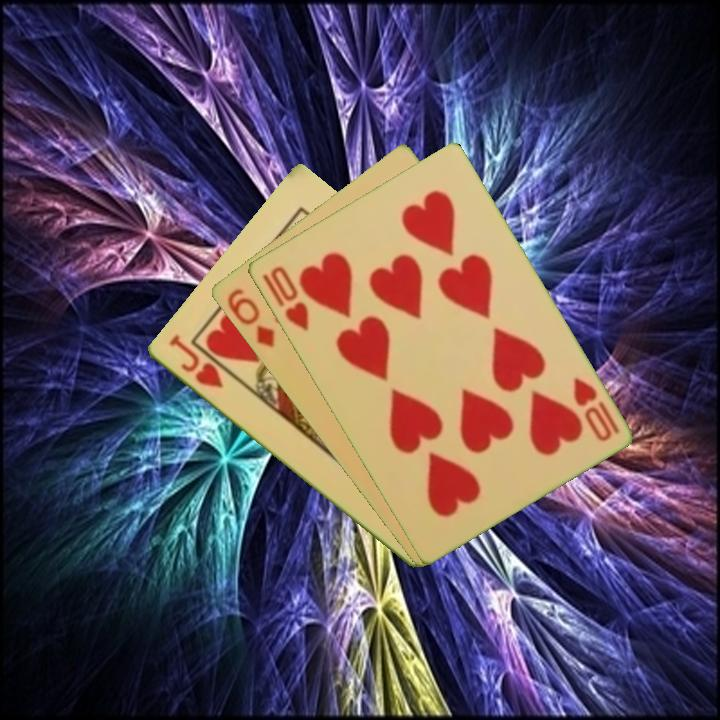10h: (569, 374, 622, 445), (266, 262, 311, 334)
6d: (222, 285, 277, 351)
Jh: (164, 331, 226, 392)
